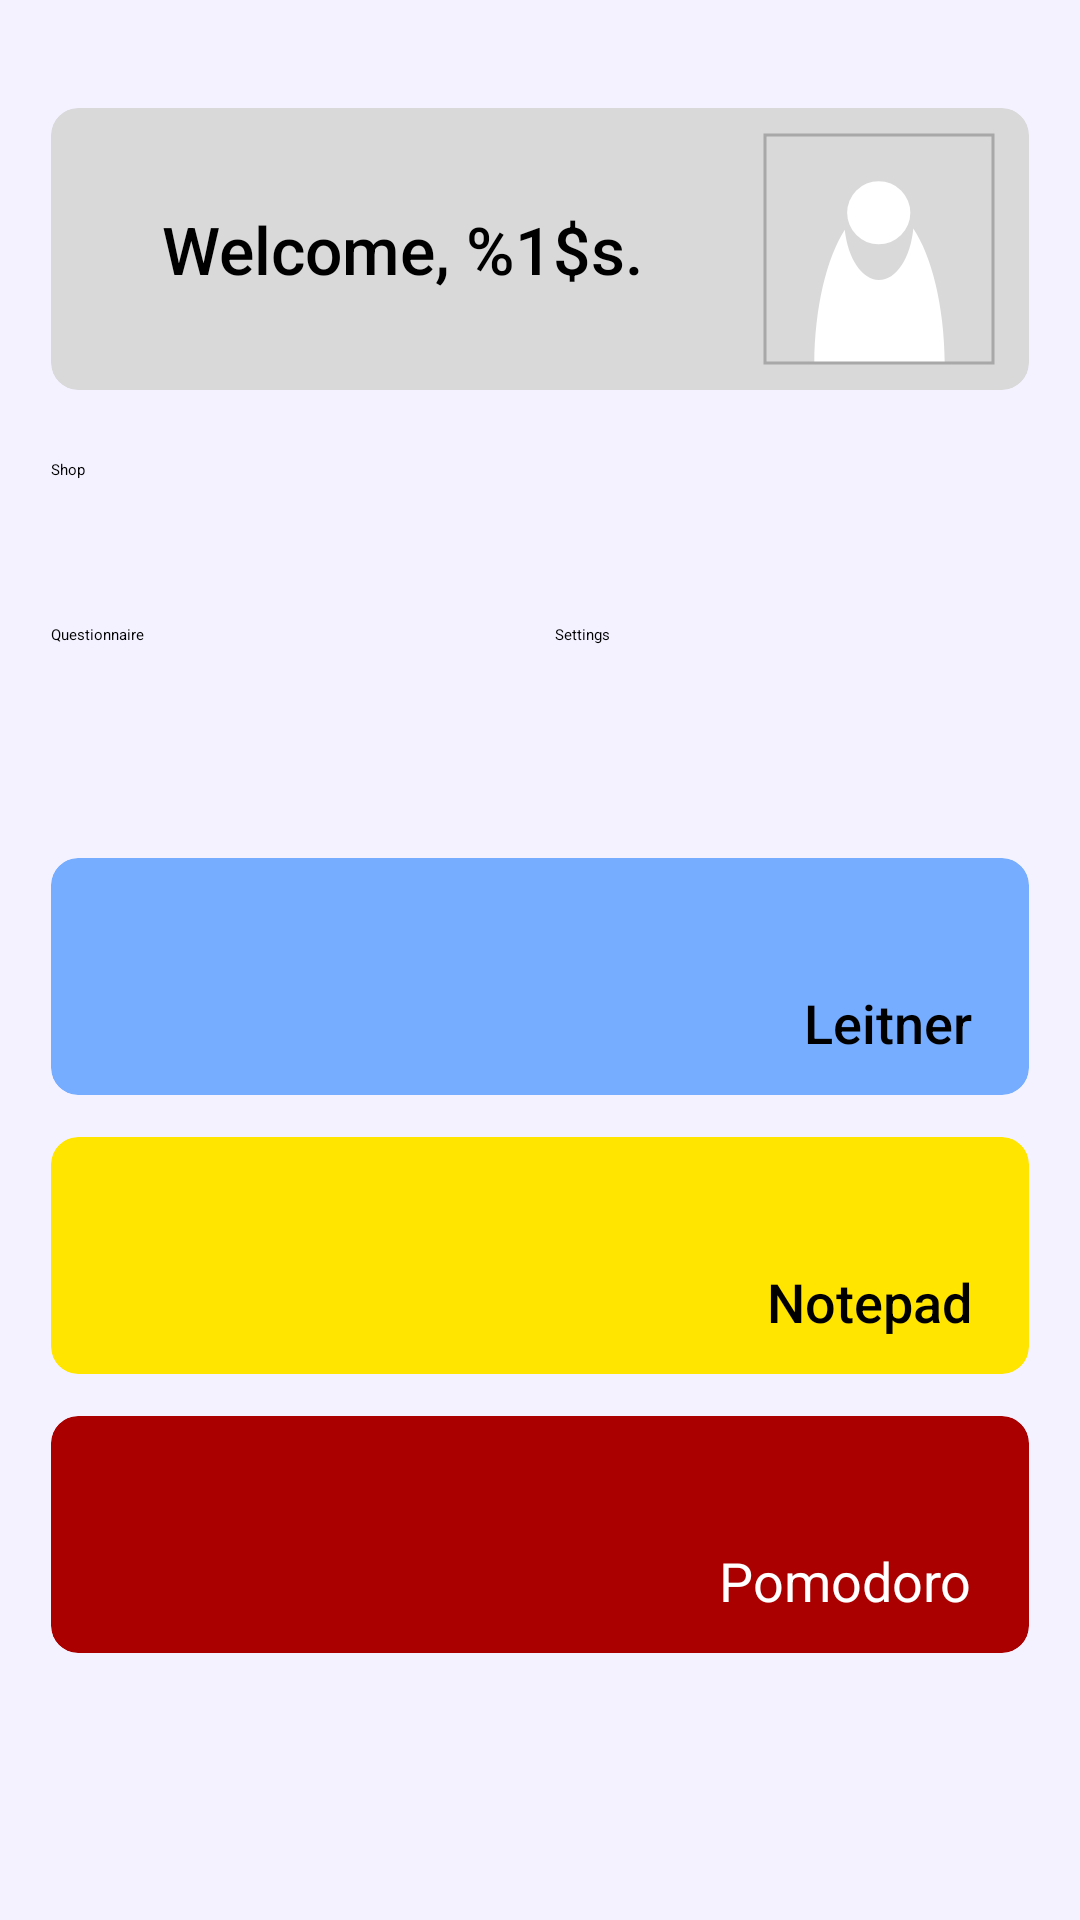

Icon bounding boxes for this 1080w x 1920h phone screenshot, format Rect(x1, y1, x2, y2):
profile: Rect(763, 133, 995, 365)
